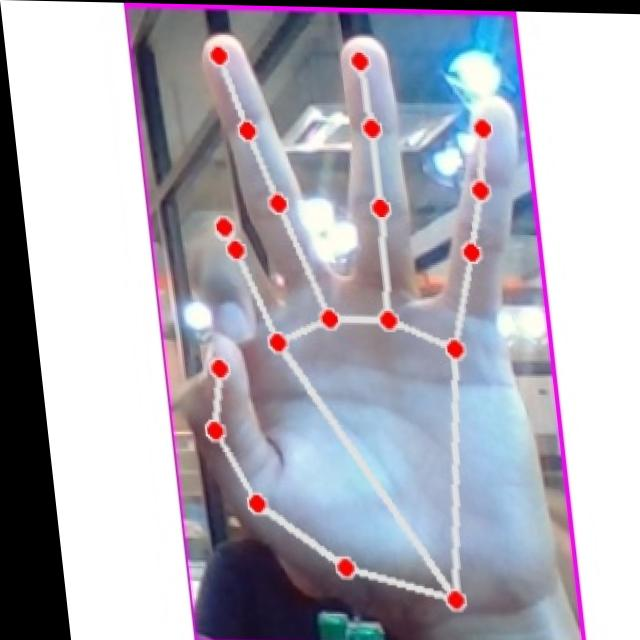F: (141, 33, 555, 616)
